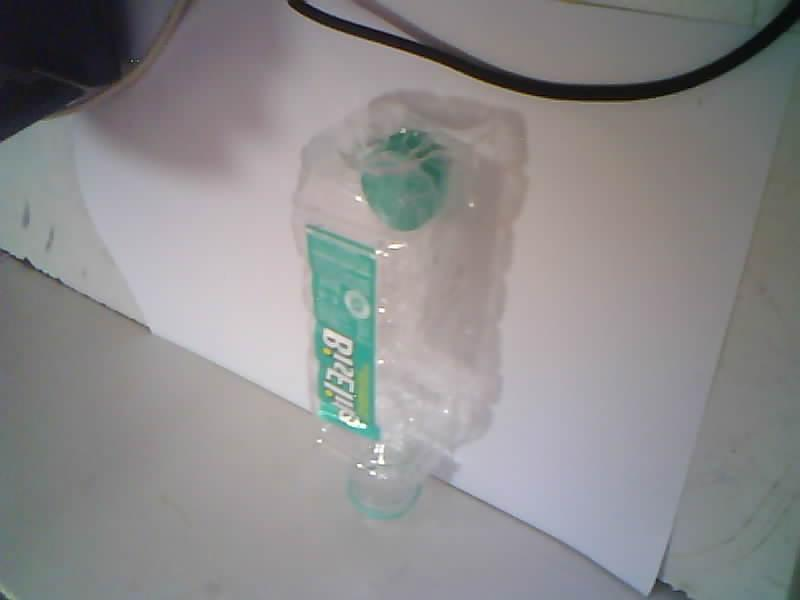non-biodegradable: (291, 95, 525, 518)
